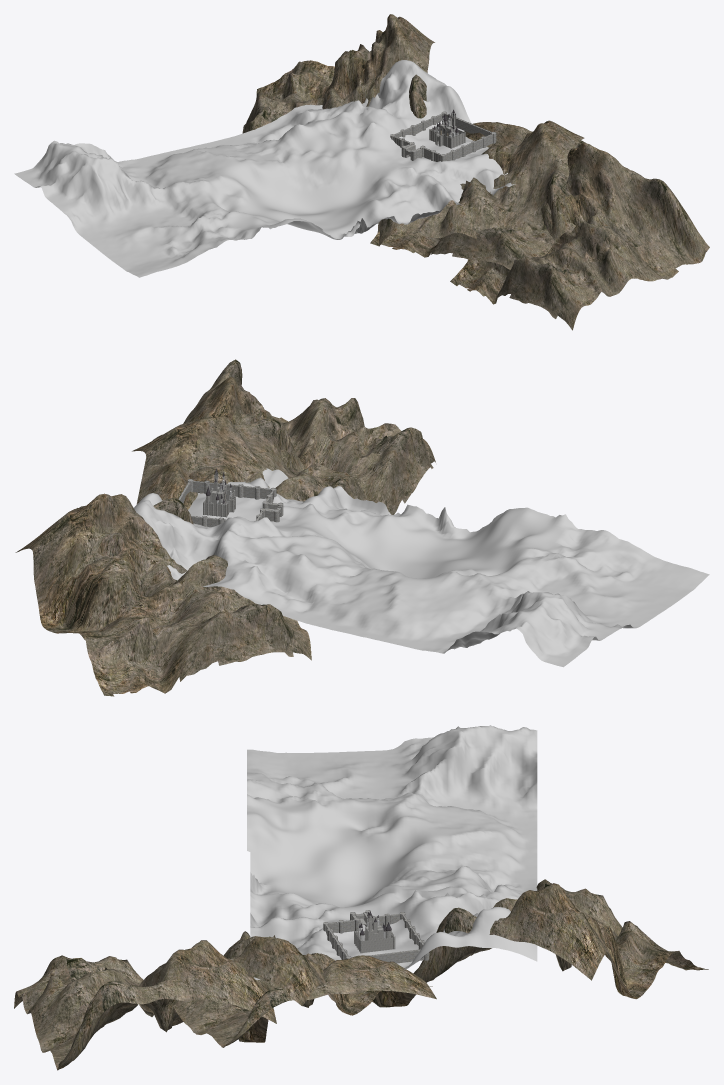
File: cenario.fbx
3 renders of one model, top to bottom at view 1: azimuth 30°, elevation 25°; view 2: azimuth 150°, elevation 25°; view 3: azimuth 270°, elevation 25°, orthographic. The views are drawn at different scales.
Visible parts, largest first — view 1: castle01:polySurface2; view 2: castle01:polySurface2; view 3: castle01:polySurface2.
Boxes of the visible parts, x1,y1,x2,y2 form: castle01:polySurface2: [14, 14, 709, 330]; castle01:polySurface2: [15, 359, 709, 696]; castle01:polySurface2: [14, 725, 708, 1070].
Bounding box in the file's own units: 418 × 124 × 443.
